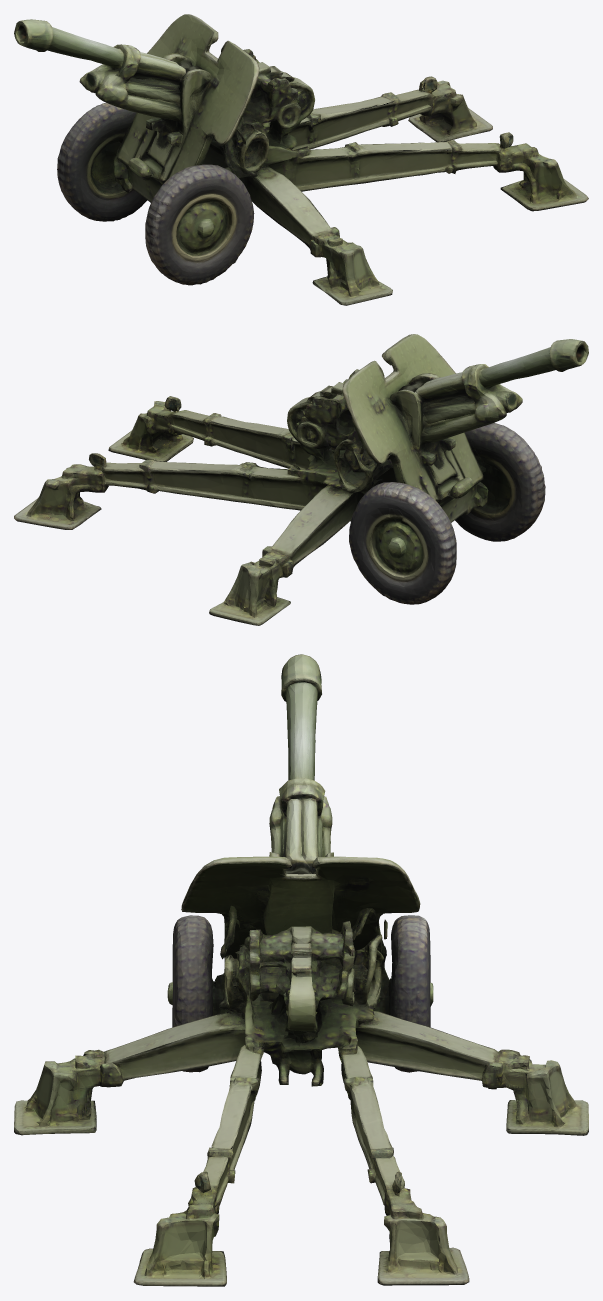
Rendered from original.glb.
3 views of the same model, one above another, from view 1: azimuth 30°, elevation 25°; view 2: azimuth 150°, elevation 25°; view 3: azimuth 270°, elevation 25° (orthographic). The views are drawn at different scales.
Parts seen in each view (by area): view 1: world; view 2: world; view 3: world.
Boxes of the visible parts, x1,y1,x2,y2 form: world: [14, 14, 588, 305]; world: [14, 334, 588, 625]; world: [14, 654, 588, 1286].
Bounding box in the file's own units: 0.9999 × 0.4908 × 0.7761.
1 material, 1 textured.
